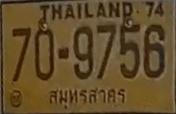0: (34, 27, 55, 80)
5: (119, 22, 139, 78)
6: (143, 23, 164, 77)
7: (96, 23, 116, 78), (12, 27, 31, 81)
9: (73, 25, 93, 78)
SKN: (43, 85, 130, 110)
